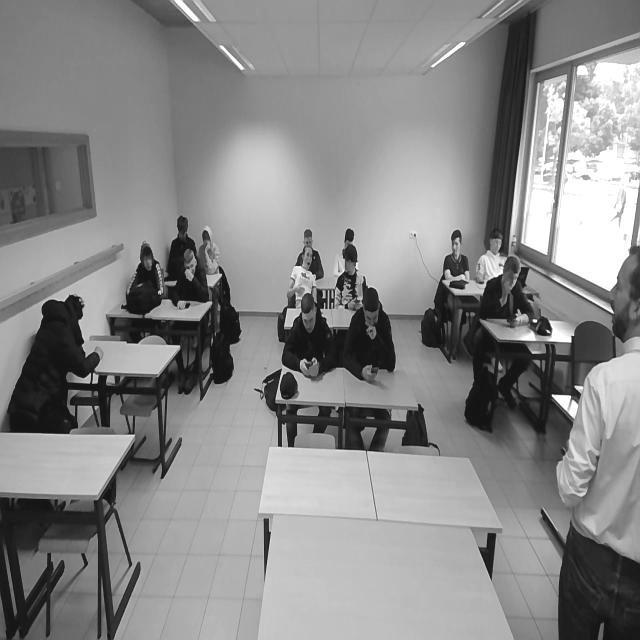Looking away: (137, 238, 159, 276), (340, 246, 356, 278), (487, 230, 505, 254), (302, 247, 316, 277), (450, 227, 463, 259), (185, 250, 198, 280)
Phone use: (343, 292, 396, 378), (283, 298, 336, 376), (484, 254, 534, 328)
Turning around: (12, 294, 104, 432)
